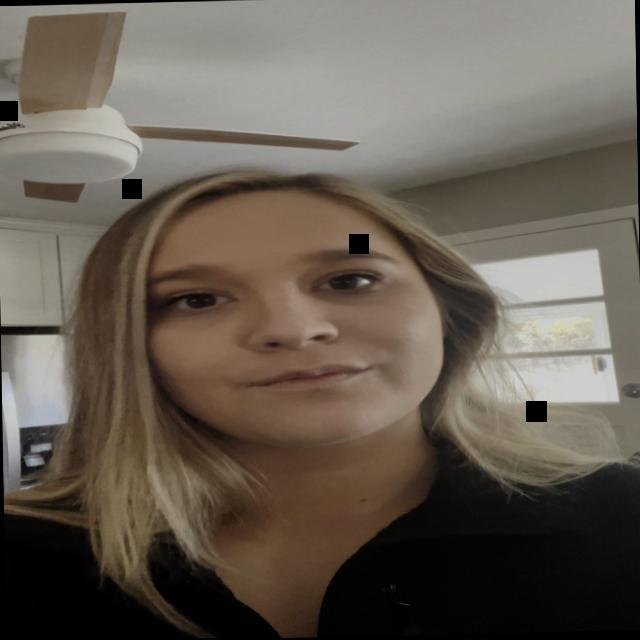NO-Mask: (112, 181, 481, 485)
